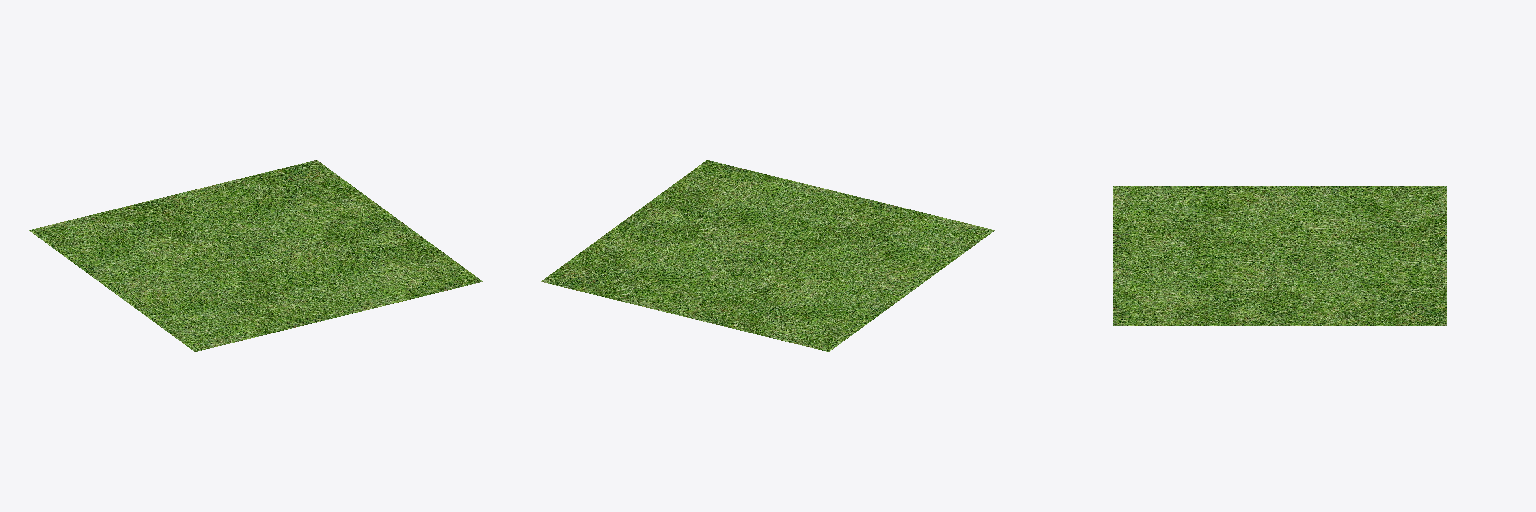
3 renders of one model, left to right at view 1: azimuth 30°, elevation 25°; view 2: azimuth 150°, elevation 25°; view 3: azimuth 270°, elevation 25°, orthographic.
Parts seen in each view (by area): view 1: pPlane1; view 2: pPlane1; view 3: pPlane1.
Boxes of the visible parts, <box> form: pPlane1: <box>29,160,482,351</box>; pPlane1: <box>541,160,994,351</box>; pPlane1: <box>1113,186,1446,325</box>.
Bounding box in the file's own units: 2000 × 0 × 2000.
Materials: 1 (1 with a texture image).